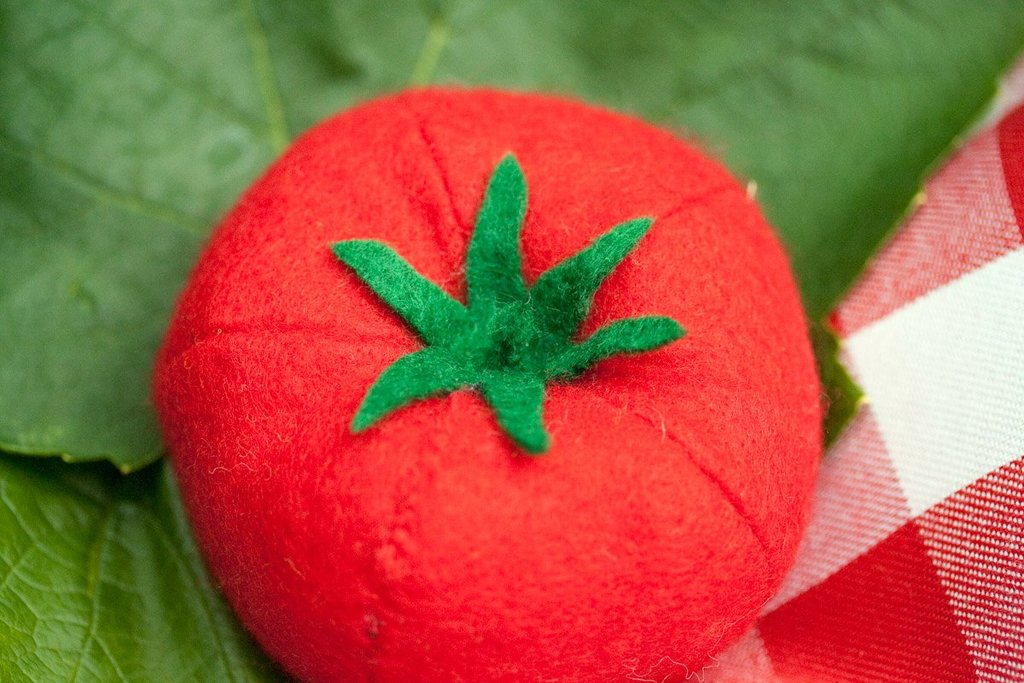Tomato: (147, 108, 823, 683)
